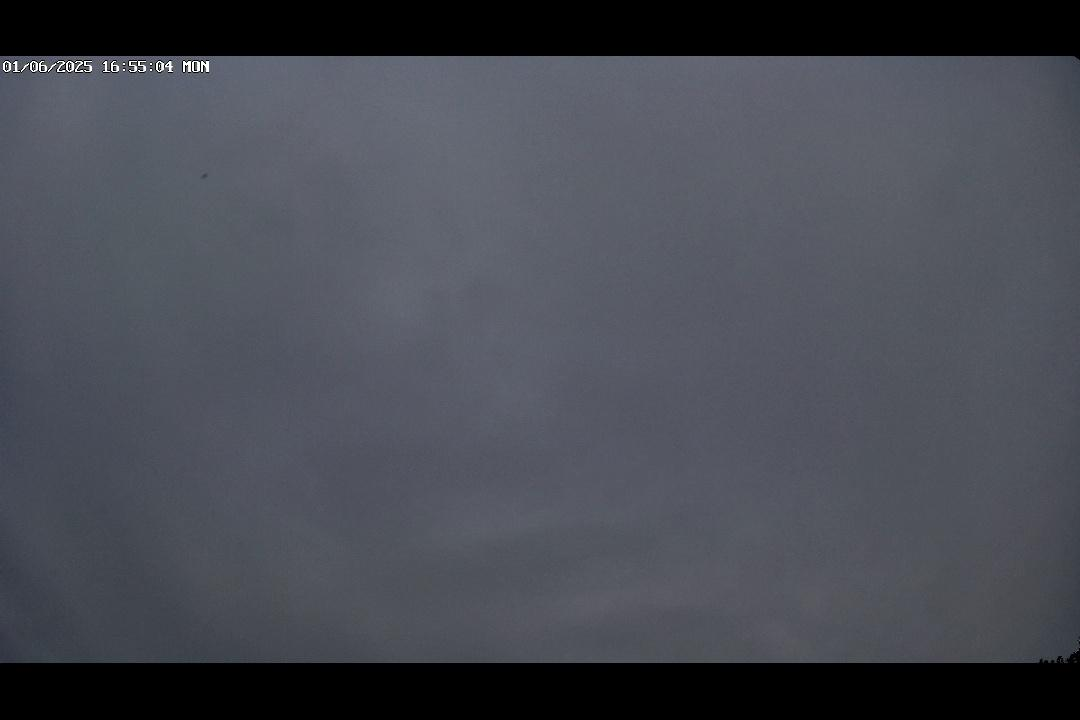WildLife: (194, 166, 218, 184)
